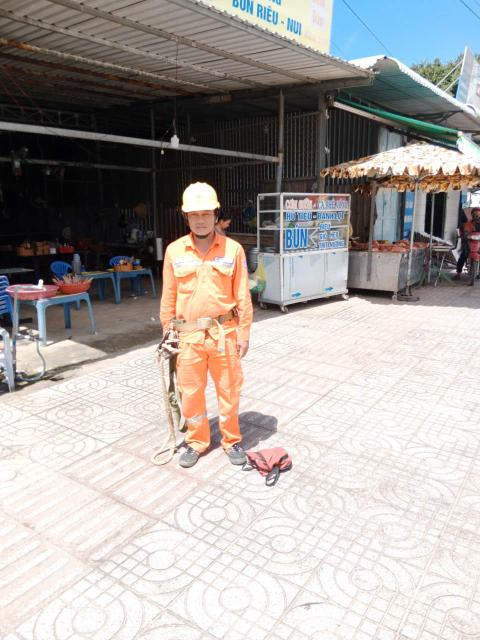harness: (157, 311, 251, 341)
helmet: (176, 173, 233, 233)
shoes: (224, 429, 248, 468), (173, 444, 205, 473)
